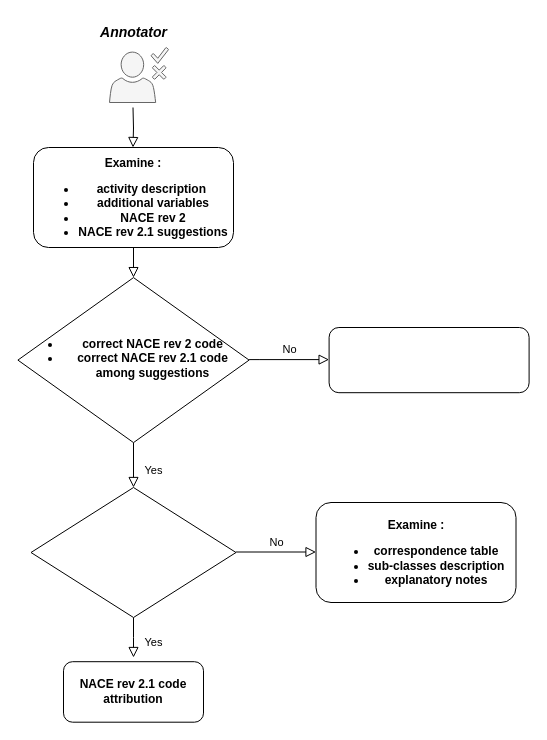
Image size: 547x740. Some labels were removed from this diagram. The shapes that lost their labels are listed below. From the top down, each one's centre as x and y in pixels, then its label:
[428,359]: search correct NACE rev 2.1 code in NACE taxonomy
[133,552]: Evident choice
